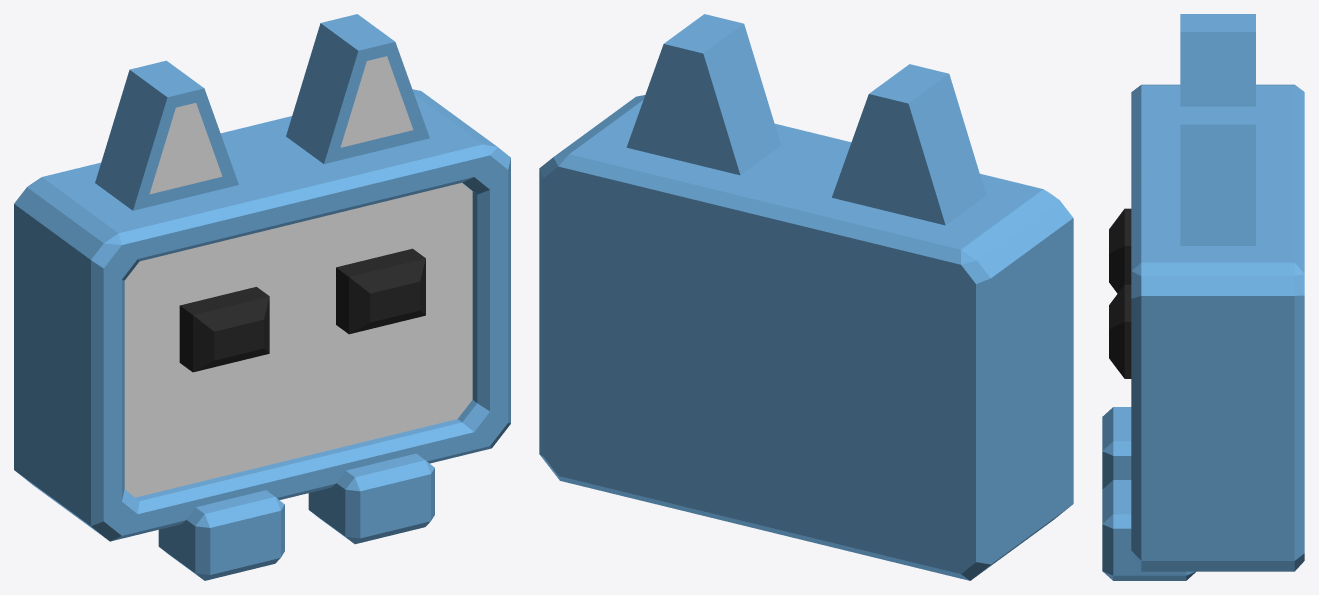
File: viewer_cat.fbx
3 views of the same model, side by side, from view 1: azimuth 30°, elevation 25°; view 2: azimuth 150°, elevation 25°; view 3: azimuth 270°, elevation 25° (orthographic). The views are drawn at different scales.
Parts seen in each view (by area): view 1: viewer_cat; view 2: viewer_cat; view 3: viewer_cat.
Boxes of the visible parts, x1,y1,x2,y2 form: viewer_cat: (14,14,510,580); viewer_cat: (539,14,1073,580); viewer_cat: (1102,14,1304,580).
Bounding box in the file's own units: 20.9 × 21.86 × 8.76.
